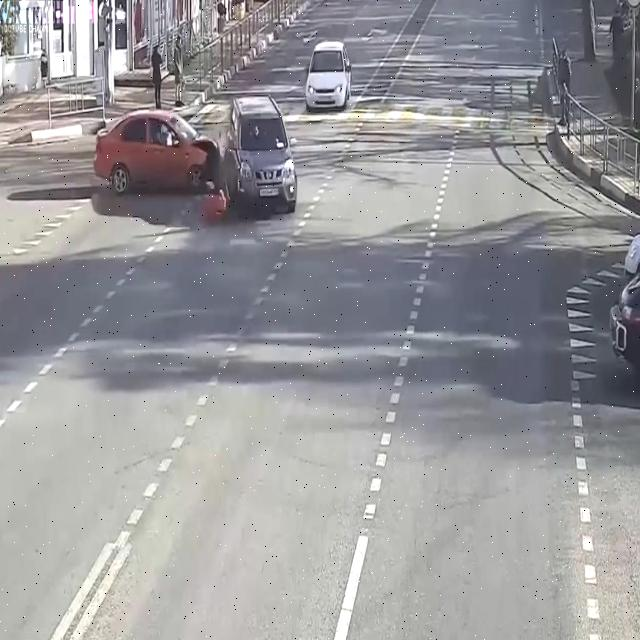accident: (89, 83, 305, 242)
